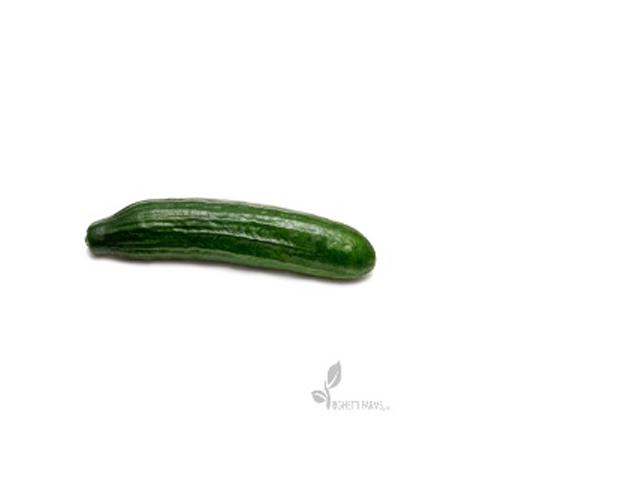cucumber: (85, 199, 377, 280)
